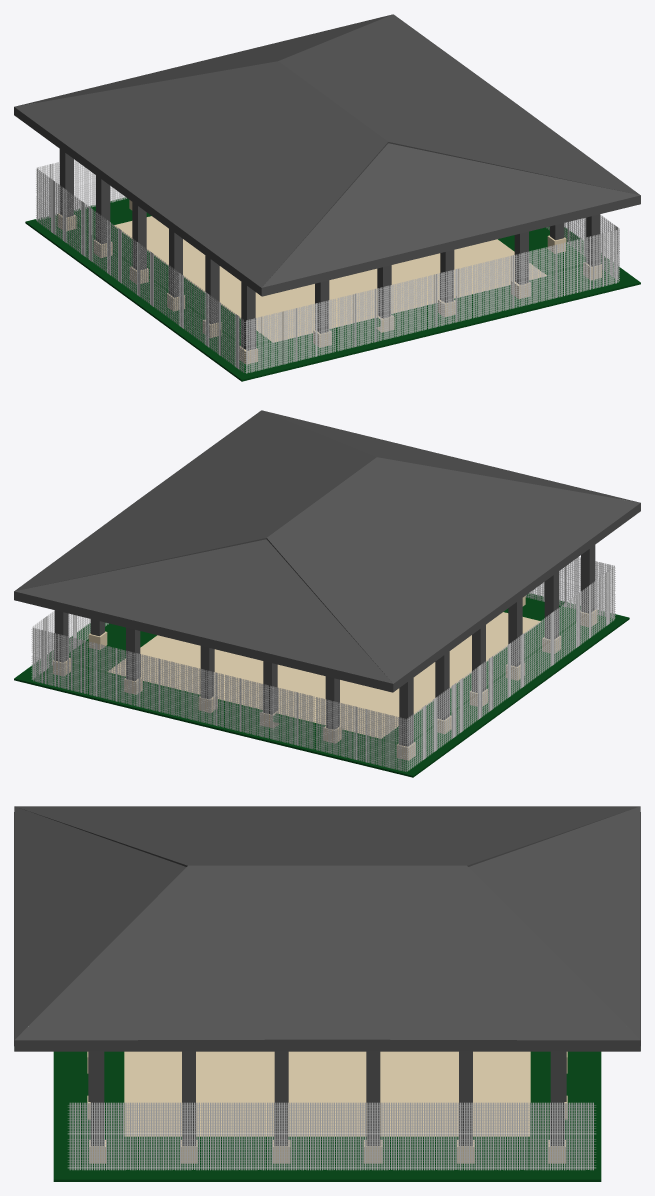
The model's file is mth court.fbx.
The picture shows the model from 3 angles, top to bottom: view 1: azimuth 30°, elevation 25°; view 2: azimuth 150°, elevation 25°; view 3: azimuth 270°, elevation 25°; orthographic projection. The views are drawn at different scales.
Parts seen in each view (by area): view 1: Cube, Cube.032, Cube.030, Cube.025, Cube.026, Cube.028, Cube.031, Cube.027, Cube.029, Cube.013, Cube.014, Cube.015 (+9 smaller); view 2: Cube, Cube.024, Cube.017, Cube.019, Cube.023, Cube.022, Cube.018, Cube.021, Cube.020, Cube.016, Cube.011, Cube.010 (+8 smaller); view 3: Cube, Cube.002, Cube.009, Cube.004, Cube.003, Cube.008, Cube.006, Cube.007, Cube.005.
Part boxes in pixels (box(x1,y1,x2,y2)): Cube: box(14, 14, 640, 381); Cube.032: box(563, 230, 619, 295); Cube.030: box(472, 254, 517, 318); Cube.025: box(245, 310, 290, 373); Cube.026: box(290, 298, 336, 362); Cube.028: box(382, 276, 427, 339); Cube.031: box(517, 243, 563, 306); Cube.027: box(336, 287, 381, 351); Cube.029: box(427, 265, 472, 329); Cube.013: box(114, 225, 140, 296); Cube.014: box(88, 206, 114, 277); Cube.015: box(62, 187, 88, 258); Cube: box(14, 410, 640, 777); Cube.024: box(32, 628, 88, 694); Cube.017: box(360, 708, 406, 771); Cube.019: box(269, 685, 315, 749); Cube.023: box(88, 641, 134, 705); Cube.022: box(133, 652, 179, 716); Cube.018: box(315, 697, 360, 760); Cube.021: box(178, 664, 224, 727); Cube.020: box(223, 674, 268, 738); Cube.016: box(406, 700, 432, 771); Cube.011: box(537, 605, 563, 676); Cube.010: box(563, 586, 588, 657); Cube: box(14, 806, 640, 1181); Cube.002: box(68, 1102, 135, 1170); Cube.009: box(527, 1102, 595, 1170); Cube.004: box(199, 1102, 267, 1170); Cube.003: box(133, 1102, 201, 1170); Cube.008: box(462, 1102, 530, 1170); Cube.006: box(330, 1102, 398, 1170); Cube.007: box(396, 1102, 464, 1170); Cube.005: box(265, 1102, 333, 1170).
Size of the model in its own units: 12755 by 4651 by 13710.
